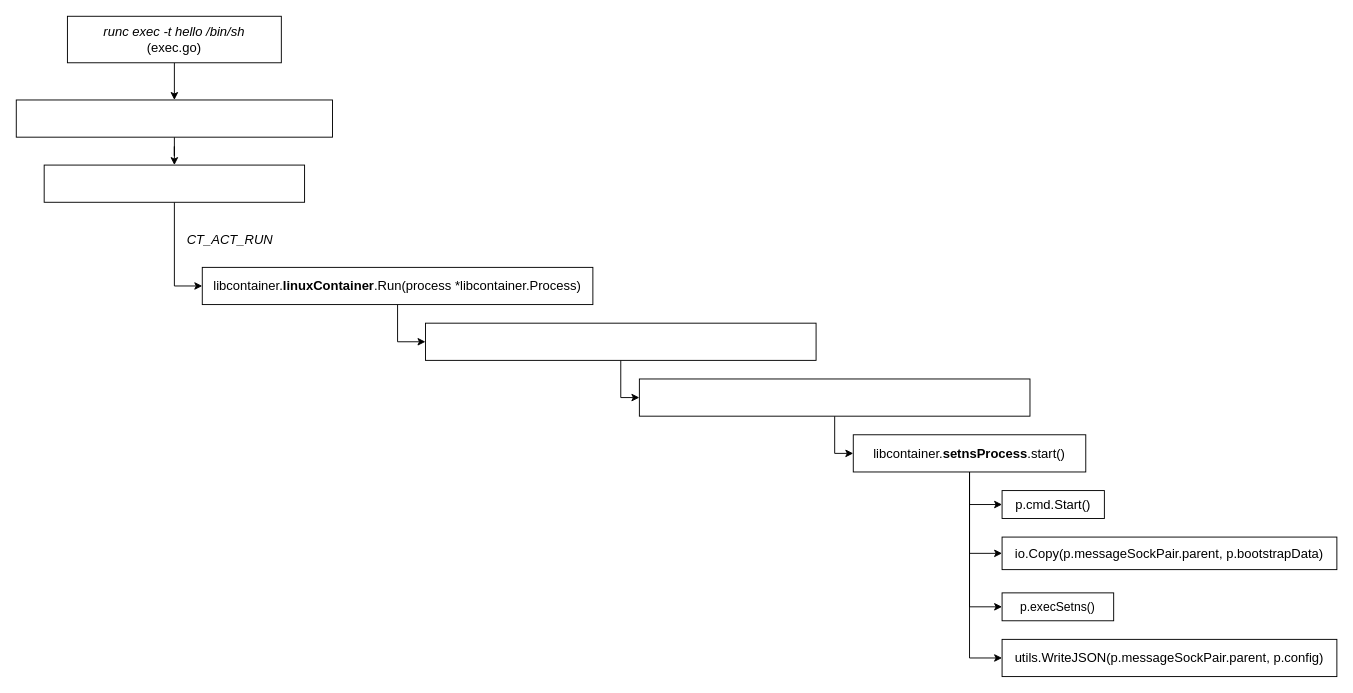
Some shapes in this 1353 by 693 pixel diagram are drawn without their labels. The centre of each missing label's shape, as x and y in pixels:
"libcontainer. linux Container .Start(process *libcontainer.Process)" belongs at (x=620, y=341).
"libcontainer. linuxContainer .start(process *libcontainer.Process)" belongs at (x=834, y=397).
"main.runner.run(config *specs.Process)" belongs at (x=174, y=183).
"main.startContainer( spec *specs.Spec, action CtAct)" belongs at (x=173, y=118).
